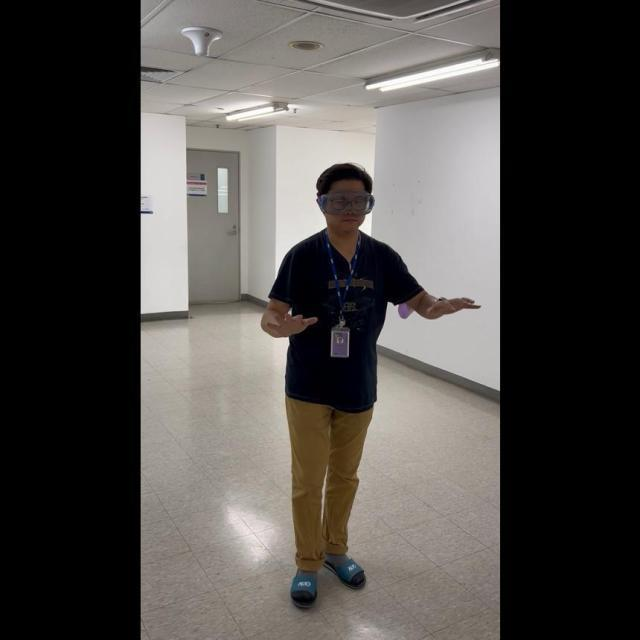bare_hand: (263, 303, 316, 338), (423, 289, 480, 320)
